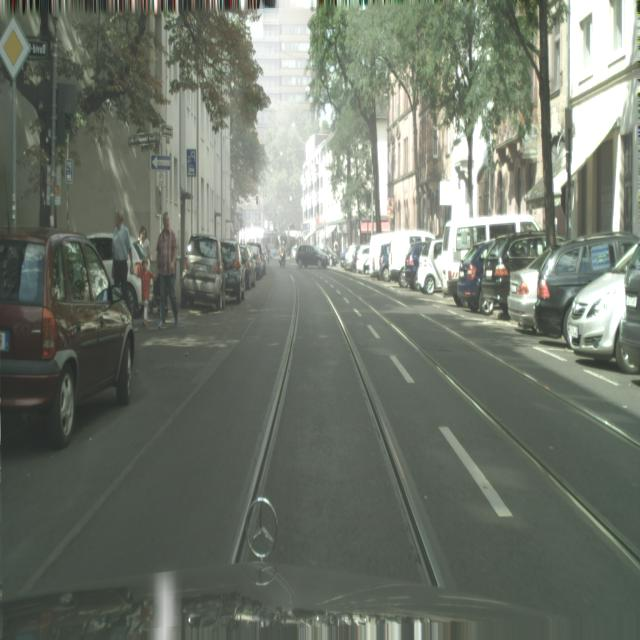bus: (156, 212, 179, 330), (111, 209, 133, 318), (135, 226, 153, 268)
car: (437, 215, 542, 298)
person: (0, 228, 136, 448), (533, 231, 640, 344), (567, 242, 639, 370), (87, 228, 154, 322), (479, 231, 549, 319), (507, 247, 554, 332), (181, 234, 225, 312), (456, 238, 496, 313), (617, 249, 640, 374), (414, 237, 444, 295), (220, 239, 245, 304), (367, 233, 391, 280), (295, 244, 330, 269), (239, 244, 255, 291), (248, 243, 266, 279), (353, 244, 371, 274), (247, 244, 259, 284), (342, 244, 357, 270)
